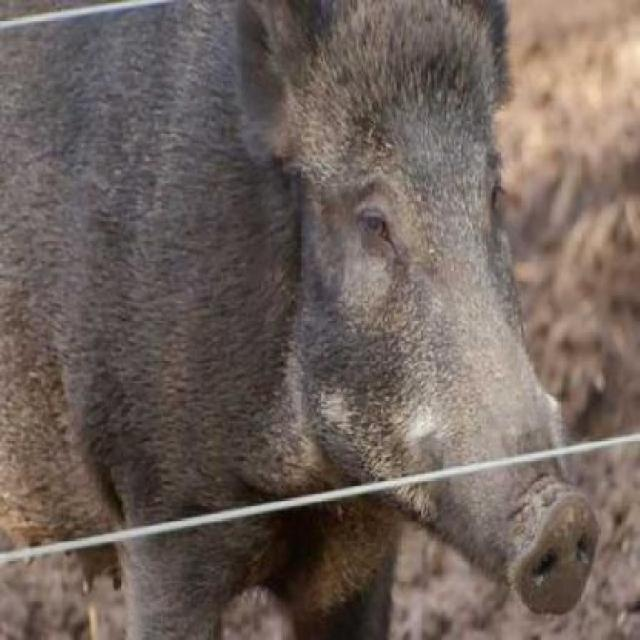pig: (11, 0, 638, 626)
